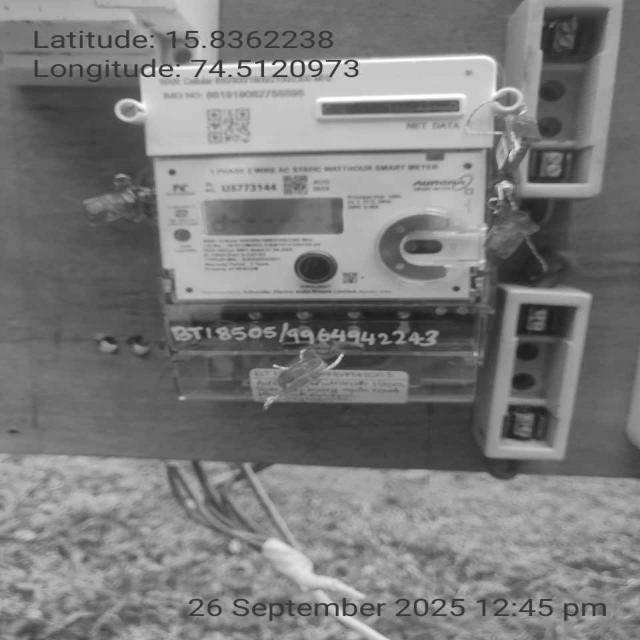meter: (133, 55, 500, 304)
